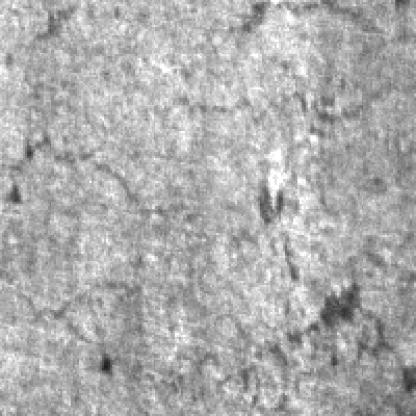crazing: (19, 266, 414, 402), (166, 0, 414, 118), (4, 127, 208, 218)
